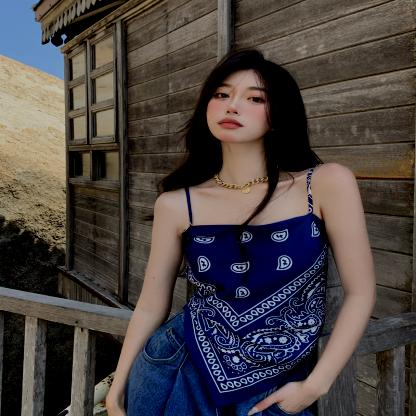jacket: (176, 166, 325, 401)
